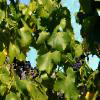grape leaf: (53, 65, 80, 97), (35, 48, 63, 74), (48, 28, 72, 53), (11, 69, 27, 98), (32, 11, 49, 31), (48, 15, 66, 33), (21, 4, 33, 21)
